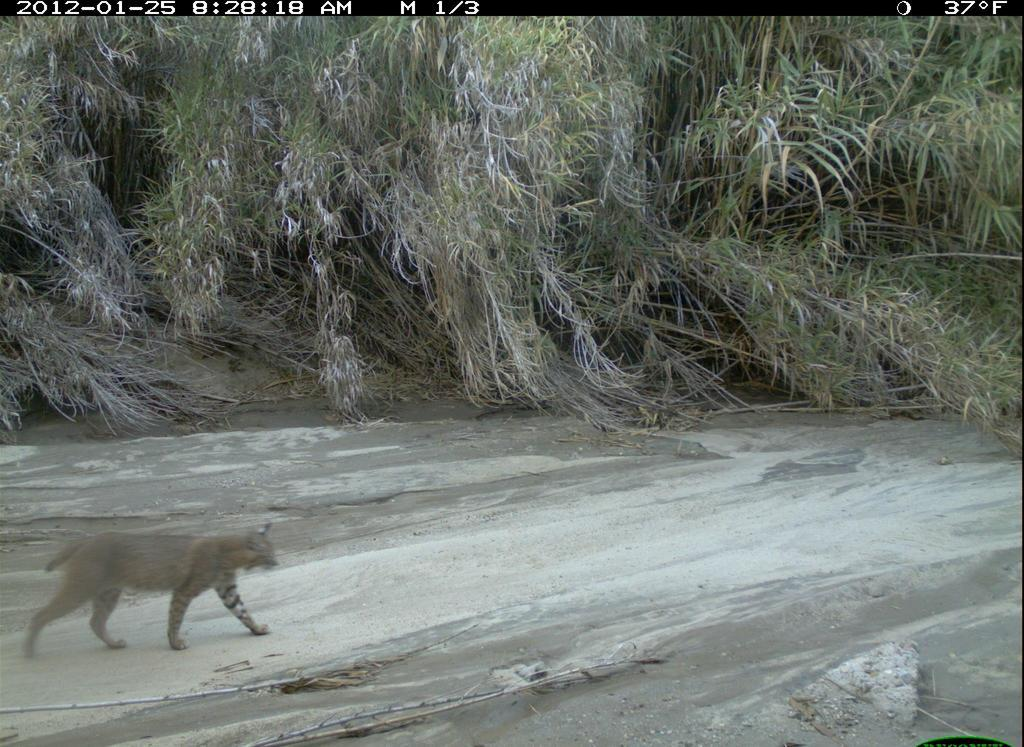bobcat: (17, 513, 310, 675)
